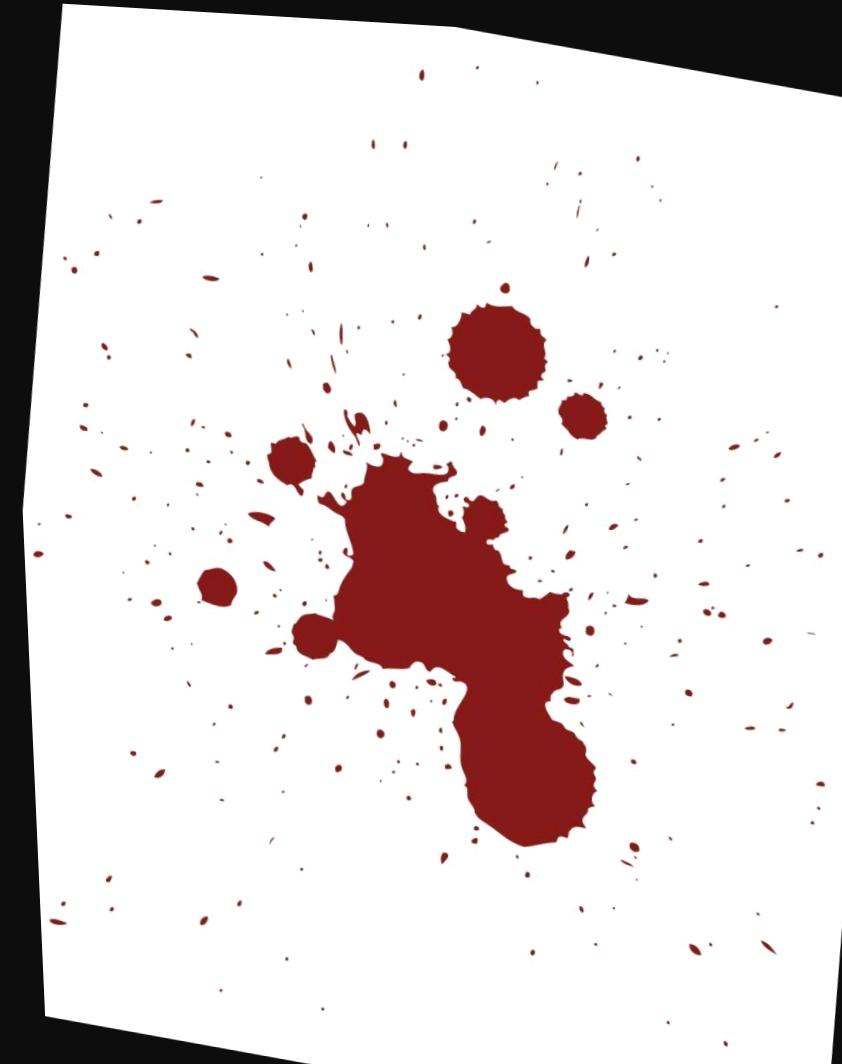Fire: (285, 446, 590, 841), (442, 296, 545, 397), (263, 432, 312, 493), (555, 384, 604, 433), (191, 564, 232, 604)
